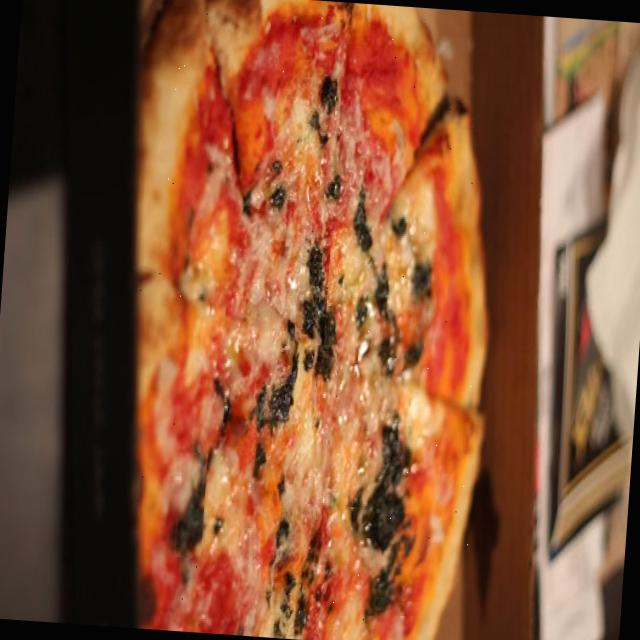basil: (365, 422, 411, 550), (172, 450, 207, 558), (270, 326, 302, 423), (297, 250, 329, 344), (362, 564, 402, 628), (346, 190, 381, 258), (312, 302, 340, 384), (280, 569, 310, 628), (250, 383, 274, 438), (402, 334, 426, 385), (409, 265, 436, 304), (317, 73, 343, 111), (270, 186, 288, 213)
cheese: (208, 176, 400, 566)
pizza: (137, 0, 487, 640)
